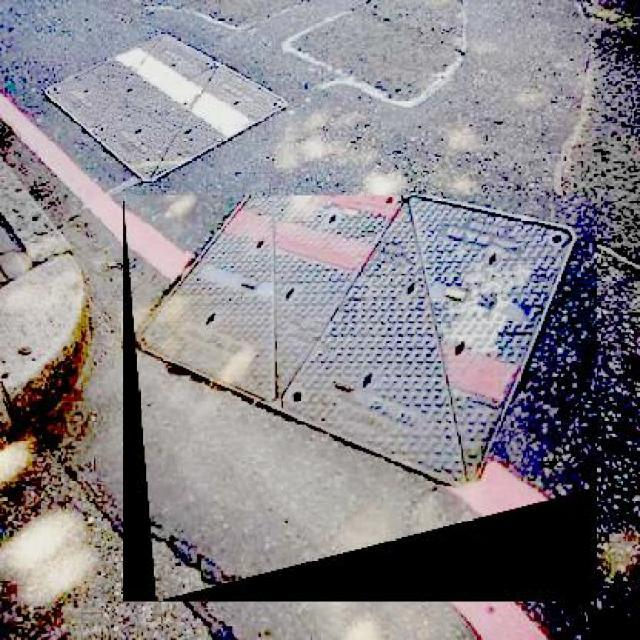Manhole: (123, 196, 597, 602), (36, 24, 291, 178)
